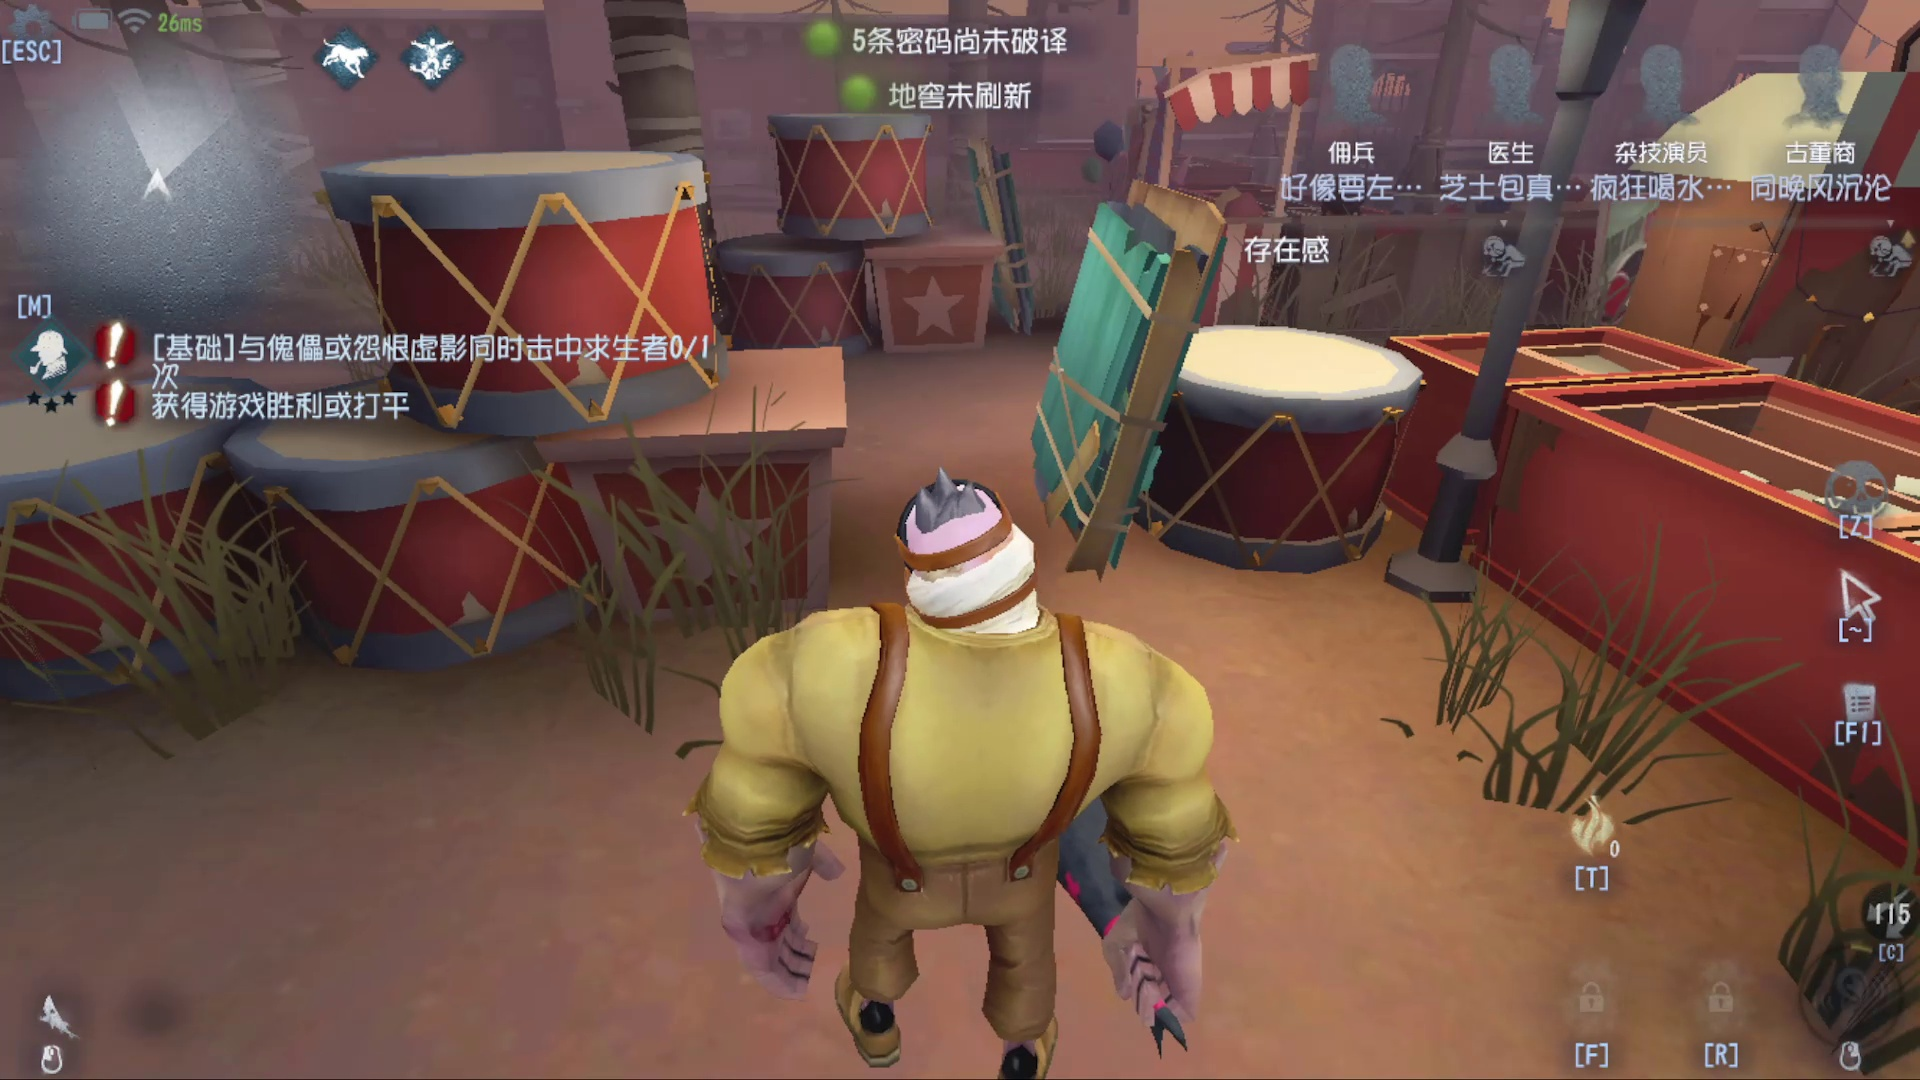木板: (1040, 175, 1232, 576), (963, 138, 1044, 335)
